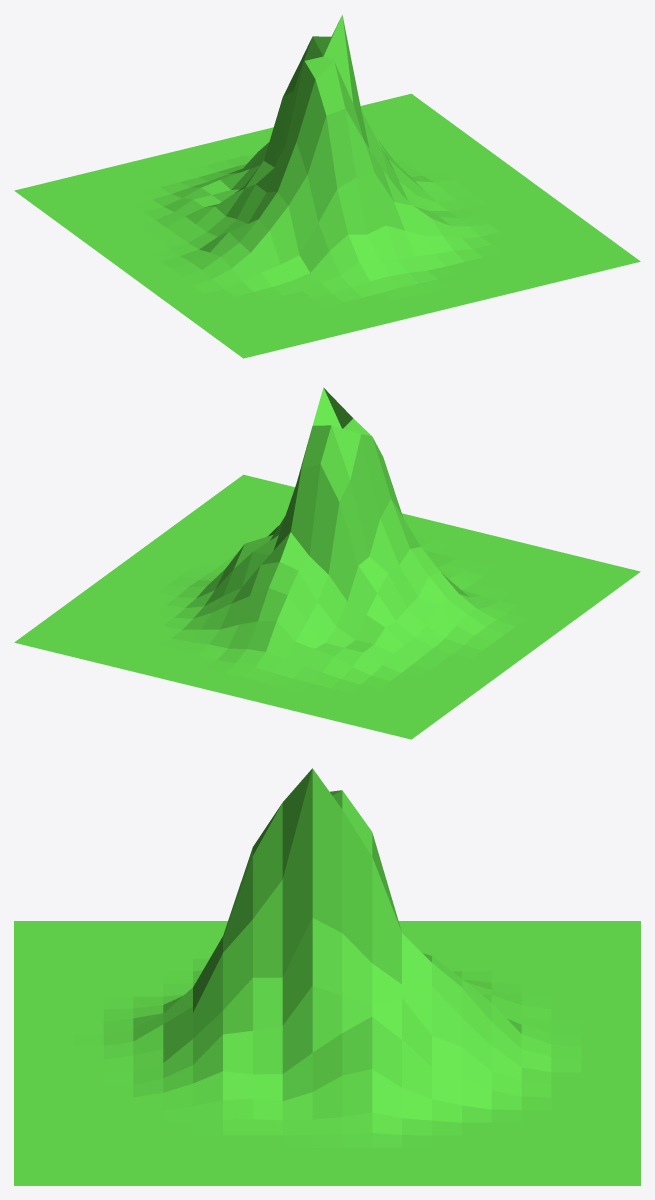
File: dag.fbx
3 views of the same model, one above another, from view 1: azimuth 30°, elevation 25°; view 2: azimuth 150°, elevation 25°; view 3: azimuth 270°, elevation 25° (orthographic). The views are drawn at different scales.
Visible parts, largest first — view 1: Plane; view 2: Plane; view 3: Plane.
Boxes of the visible parts, x1,y1,x2,y2 form: Plane: (14, 15, 640, 358); Plane: (14, 387, 640, 739); Plane: (14, 768, 640, 1185).
Bounding box in the file's own units: 200 × 103 × 200.
